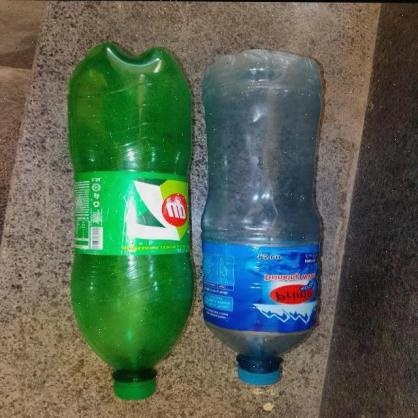bottle: (67, 39, 192, 399), (202, 49, 323, 386)
cap: (236, 361, 285, 385), (113, 374, 156, 400)
label: (204, 235, 321, 329), (71, 166, 188, 257)
